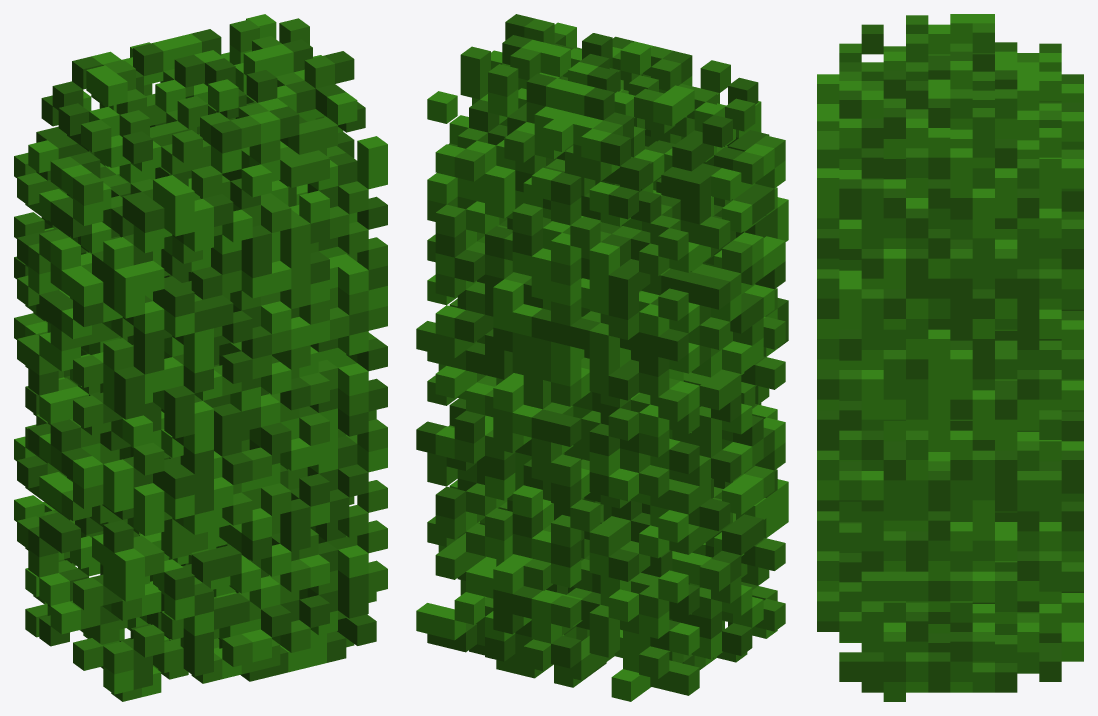
Rendered from Foliage_Set-6.obj.
3 views of the same model, side by side, from view 1: azimuth 30°, elevation 25°; view 2: azimuth 150°, elevation 25°; view 3: azimuth 270°, elevation 25° (orthographic).
Bounding box in the file's own units: 1.4 × 2.9 × 1.2.
1 material, 1 textured.
